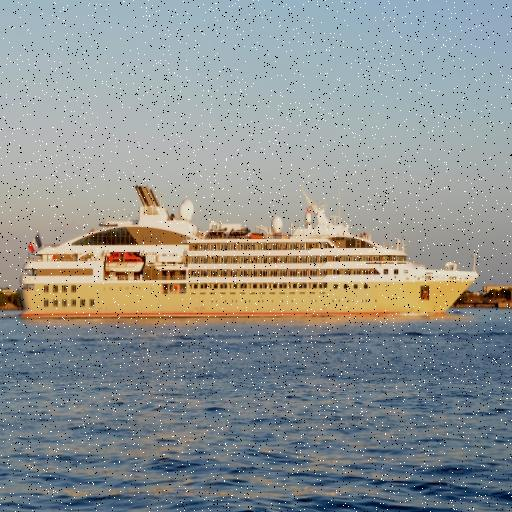cruises: (17, 184, 494, 326)
